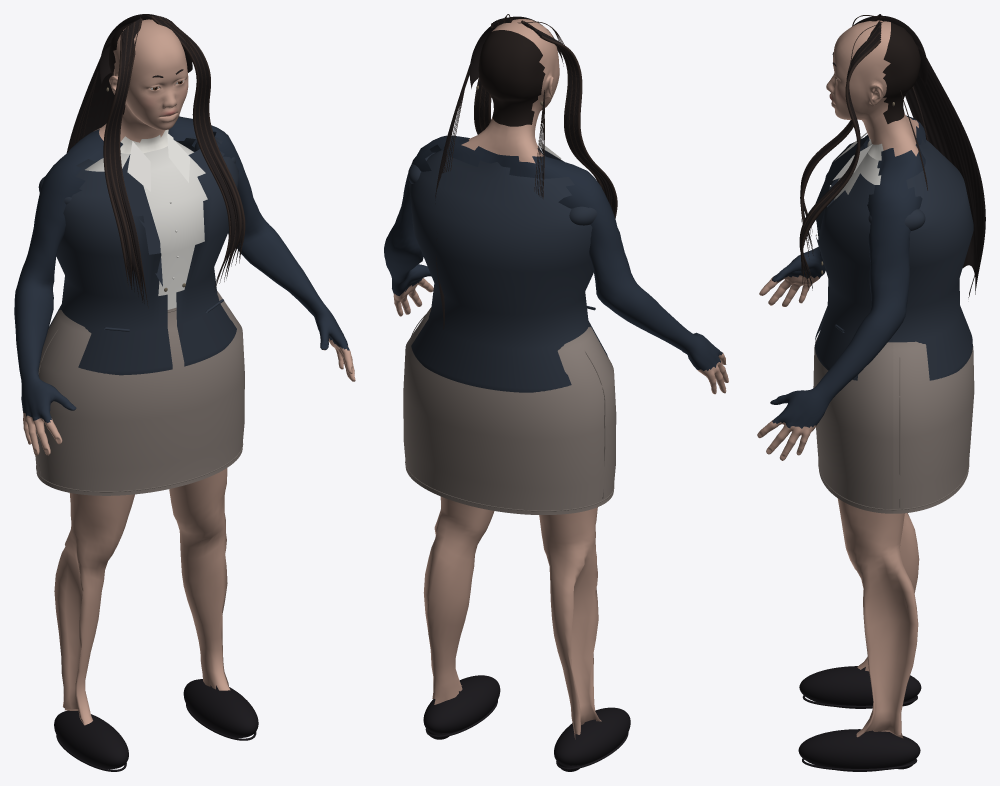
The model's file is character.glb.
3 views of the same model, side by side, from view 1: azimuth 30°, elevation 25°; view 2: azimuth 150°, elevation 25°; view 3: azimuth 270°, elevation 25° (orthographic).
Parts seen in each view (by area): view 1: Complete body, Fitted pencil skirt, Open tailored blazer, Fitted shirt, Leather pump, Leather pump.001, Long hair mantle, Notched lapel, Tapered face framing hair.012, Tapered face framing hair.013, Swept crown, Folded shirt collar; view 2: Complete body, Open tailored blazer, Fitted pencil skirt, Leather pump, Leather pump.001, Tapered face framing hair.012, Long hair mantle; view 3: Complete body, Fitted pencil skirt, Open tailored blazer, Long hair mantle, Leather pump.001, Leather pump, Tapered face framing hair.025, Notched lapel, Fitted shirt, Swept crown, Tapered face framing hair.
Boxes of the visible parts, x1,y1,x2,y2 form: Complete body: (14, 19, 355, 725); Fitted pencil skirt: (35, 291, 244, 495); Open tailored blazer: (48, 137, 238, 375); Fitted shirt: (85, 140, 207, 309); Leather pump: (54, 710, 128, 769); Leather pump.001: (183, 679, 258, 737); Long hair mantle: (66, 42, 182, 152); Notched lapel: (122, 154, 162, 286); Tapered face framing hair.012: (103, 32, 128, 286); Tapered face framing hair.013: (150, 15, 230, 291); Swept crown: (100, 14, 192, 83); Folded shirt collar: (127, 141, 150, 191); Complete body: (384, 19, 728, 739); Open tailored blazer: (409, 150, 607, 392); Fitted pencil skirt: (403, 307, 616, 514); Leather pump: (554, 707, 630, 765); Leather pump.001: (423, 675, 500, 733); Tapered face framing hair.012: (540, 35, 617, 218); Long hair mantle: (435, 48, 478, 329); Complete body: (757, 20, 925, 738); Fitted pencil skirt: (813, 332, 974, 513); Open tailored blazer: (815, 134, 973, 380); Long hair mantle: (905, 45, 985, 297); Leather pump.001: (798, 729, 920, 771); Leather pump: (799, 666, 921, 708); Tapered face framing hair.025: (801, 40, 880, 273); Notched lapel: (815, 136, 868, 256); Fitted shirt: (834, 153, 881, 200); Swept crown: (853, 15, 927, 85); Tapered face framing hair: (800, 15, 881, 259).
Size of the model in its own units: 0.816 by 1.75 by 0.5056.
